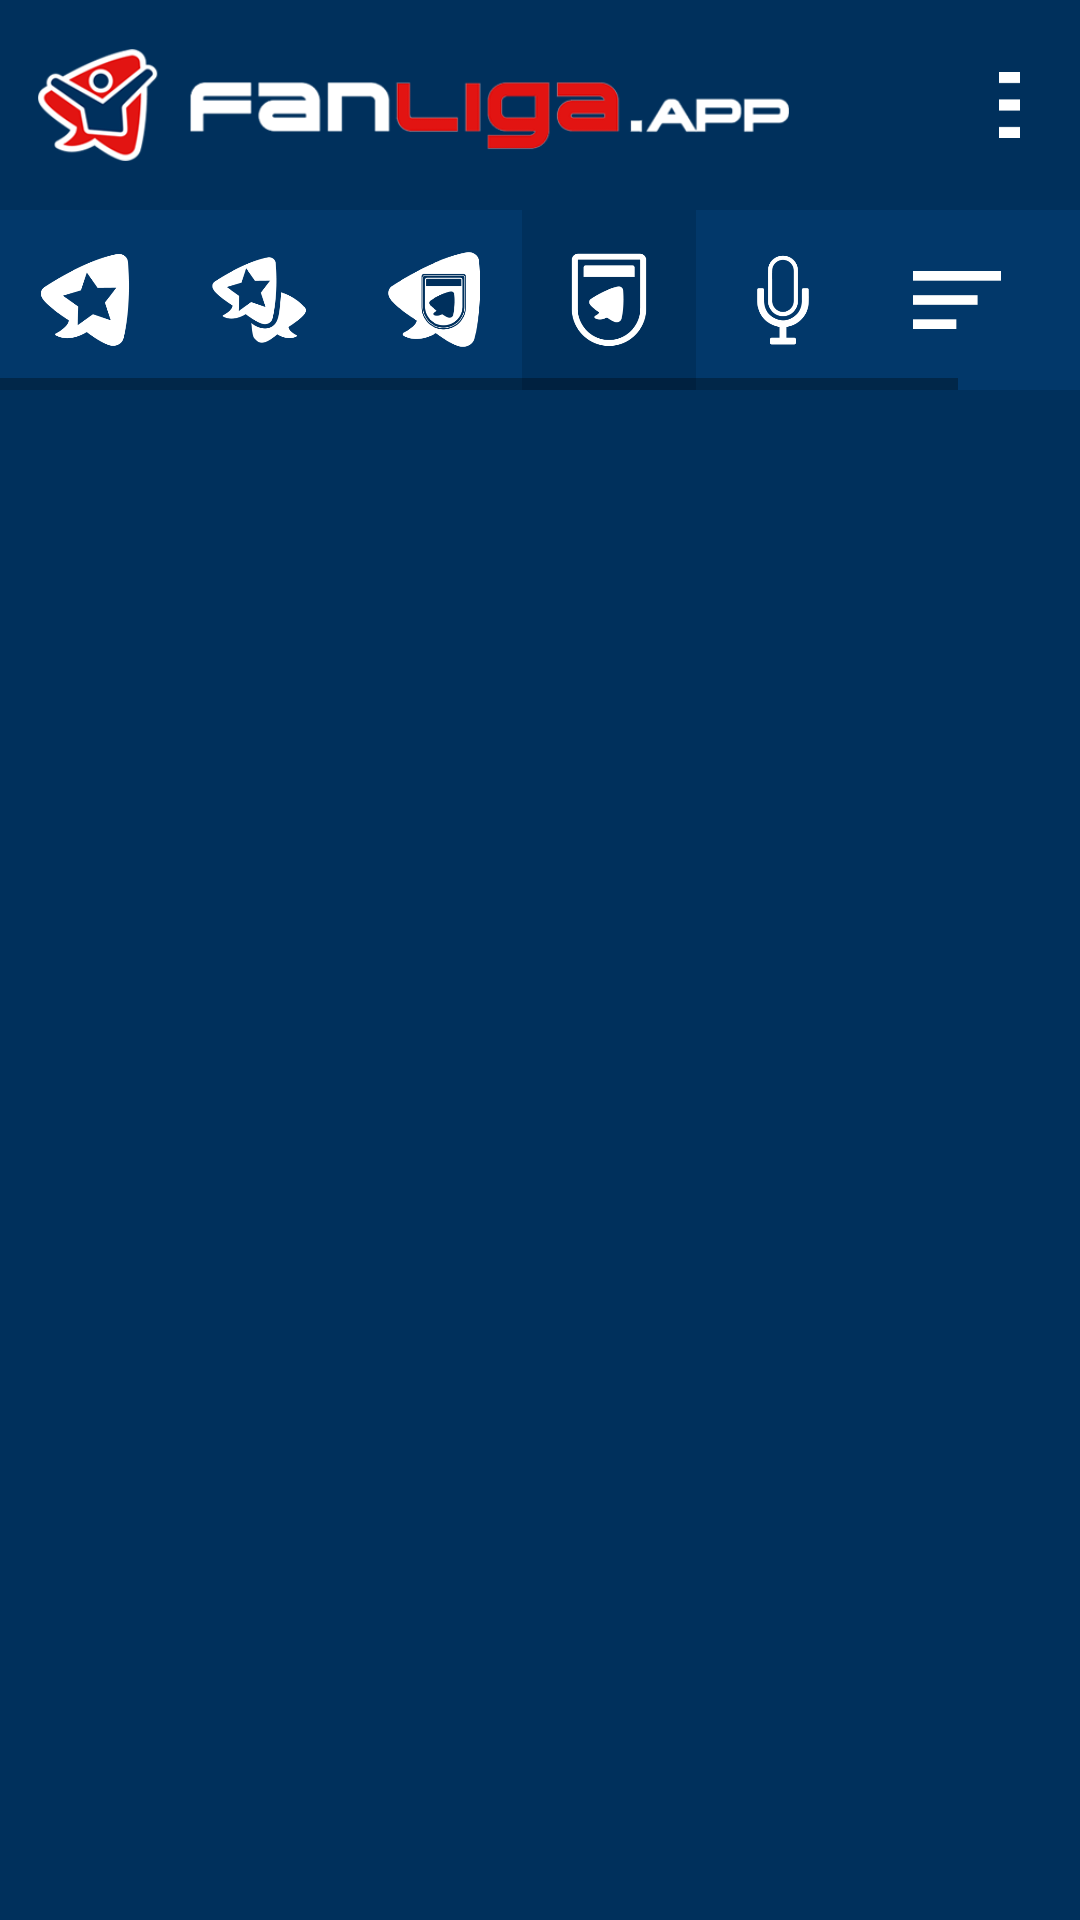

Icon bounding boxes for this 1080px×1920px phone screenshot, format (x1, y1, x2, y2):
favorite: (41, 254, 129, 346)
